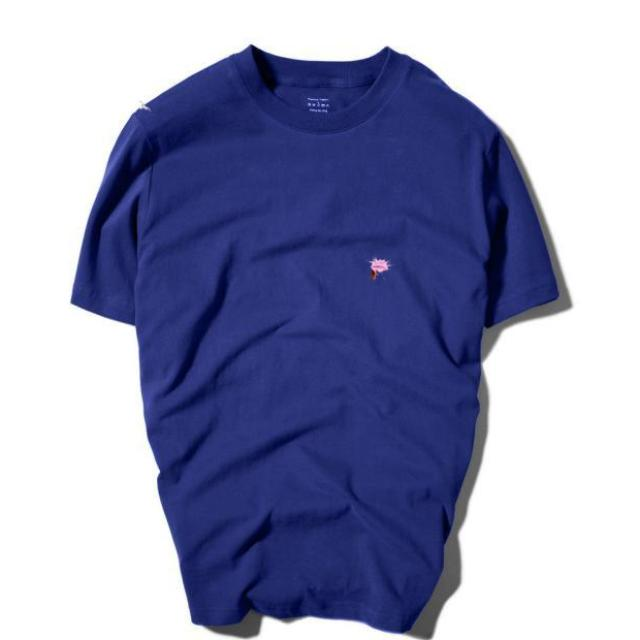stain: (362, 252, 398, 283)
